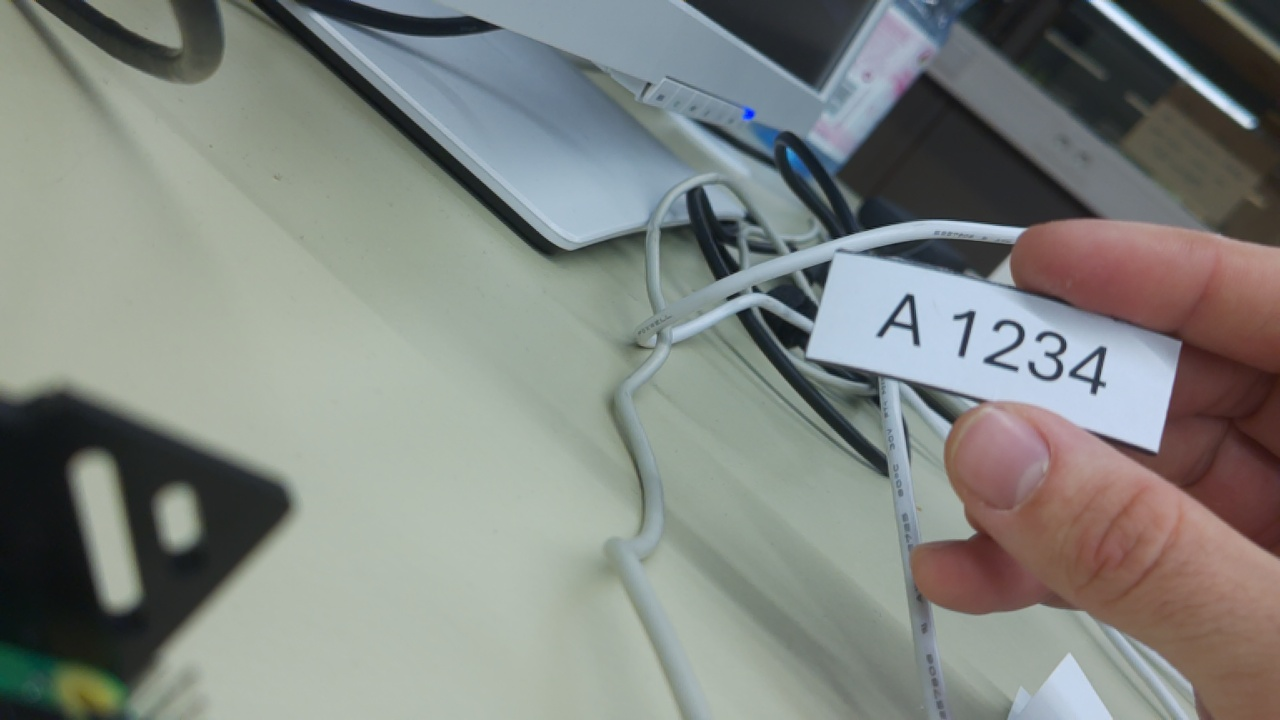license_plate: (798, 237, 1192, 469)
